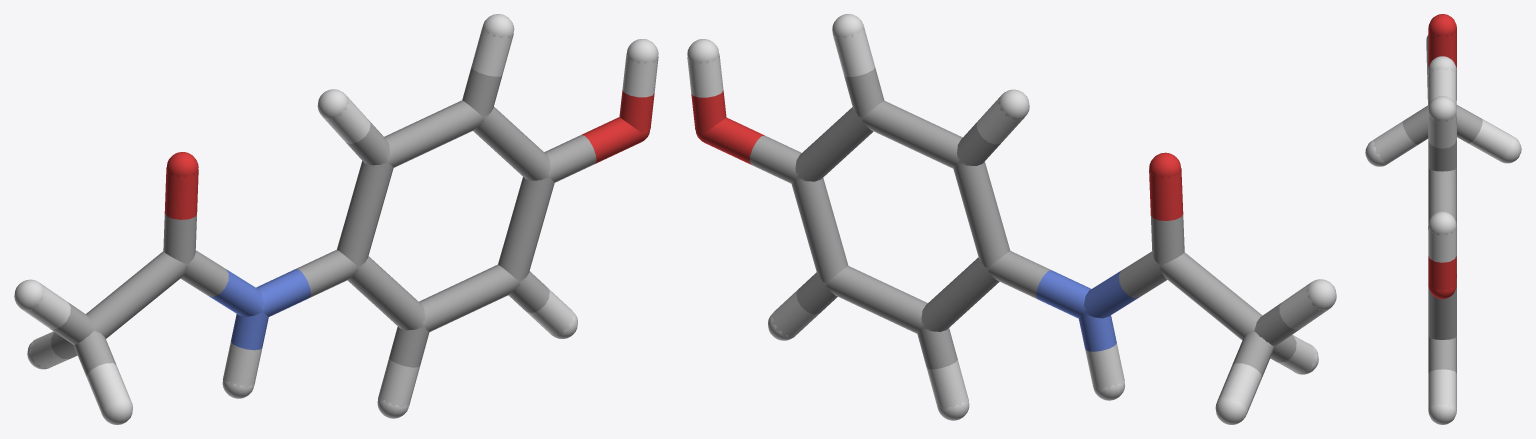
The model's file is paracetamol-sticks.glb.
3 views of the same model, side by side, from view 1: azimuth 30°, elevation 25°; view 2: azimuth 150°, elevation 25°; view 3: azimuth 270°, elevation 25° (orthographic). The views are drawn at different scales.
Parts seen in each view (by area): view 1: paracetamol-sticks; view 2: paracetamol-sticks; view 3: paracetamol-sticks.
Boxes of the visible parts, x1=… form: paracetamol-sticks: x1=14, y1=14, x2=658, y2=424; paracetamol-sticks: x1=687, y1=14, x2=1336, y2=424; paracetamol-sticks: x1=1365, y1=14, x2=1521, y2=424.
Size of the model in its own units: 9.16 by 5.13 by 2.19.
